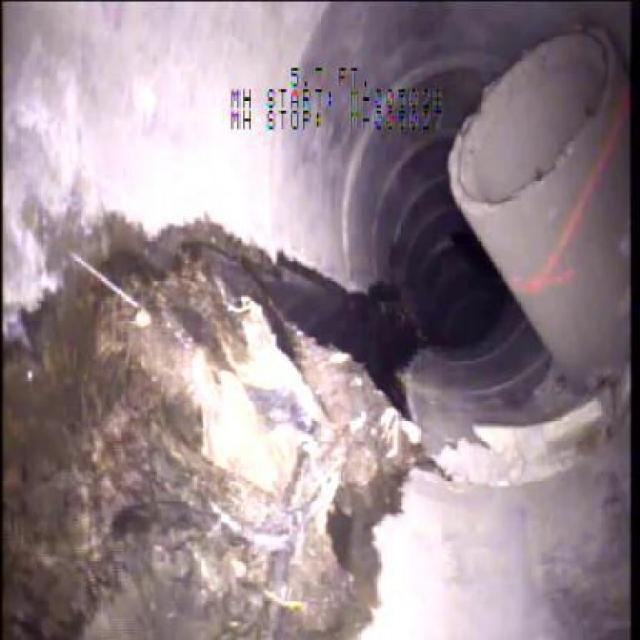Debris: (80, 295, 332, 623)
Utility intrusion: (444, 15, 634, 391)
